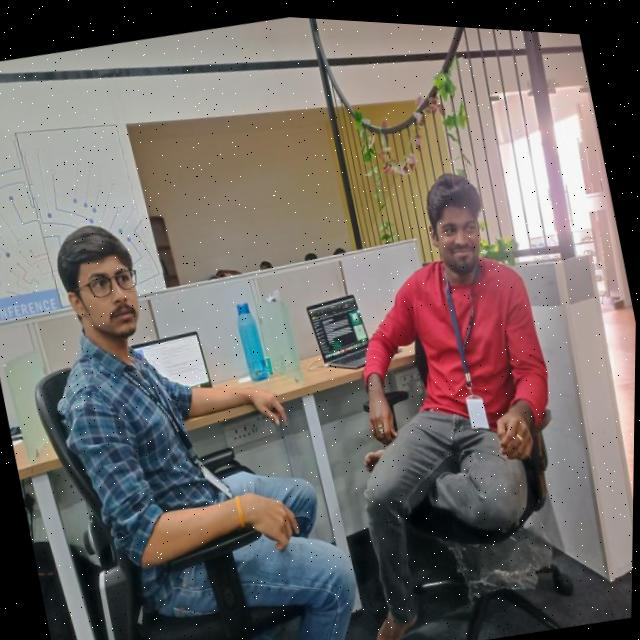id_card: (110, 335, 242, 515), (432, 259, 513, 432)
